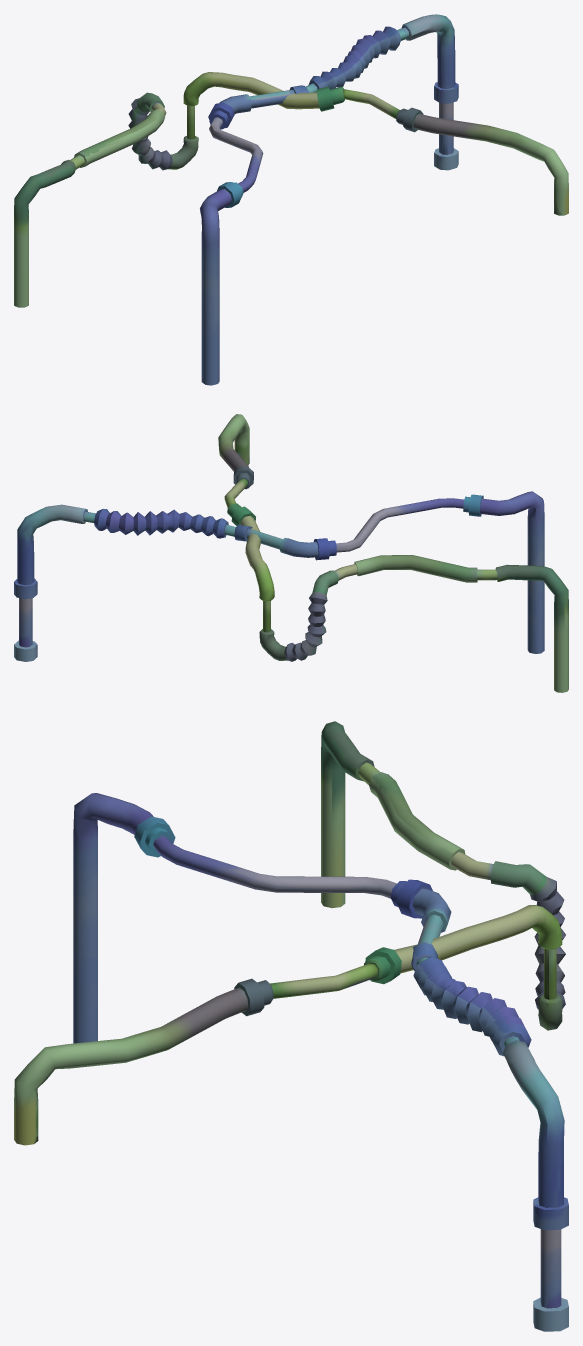
Rendered from trade-pipe6.fbx.
3 views of the same model, one above another, from view 1: azimuth 30°, elevation 25°; view 2: azimuth 150°, elevation 25°; view 3: azimuth 270°, elevation 25° (orthographic). The views are drawn at different scales.
Visible parts, largest first — view 1: pipe6; view 2: pipe6; view 3: pipe6.
Part boxes in pixels (x1,y1,x2,y2): pipe6: (14,14,568,385); pipe6: (14,414,568,692); pipe6: (14,721,568,1331).
Bounding box in the file's own units: 1443 × 470 × 886.
